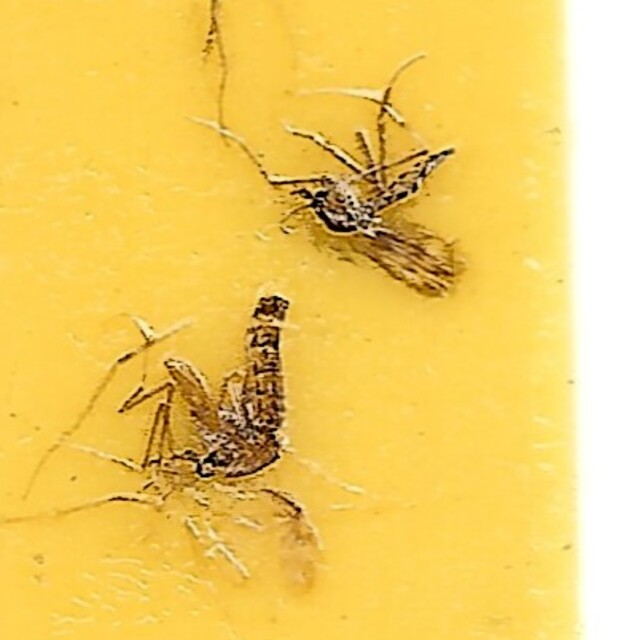Nematocera: (290, 145, 481, 315), (159, 286, 301, 495)
